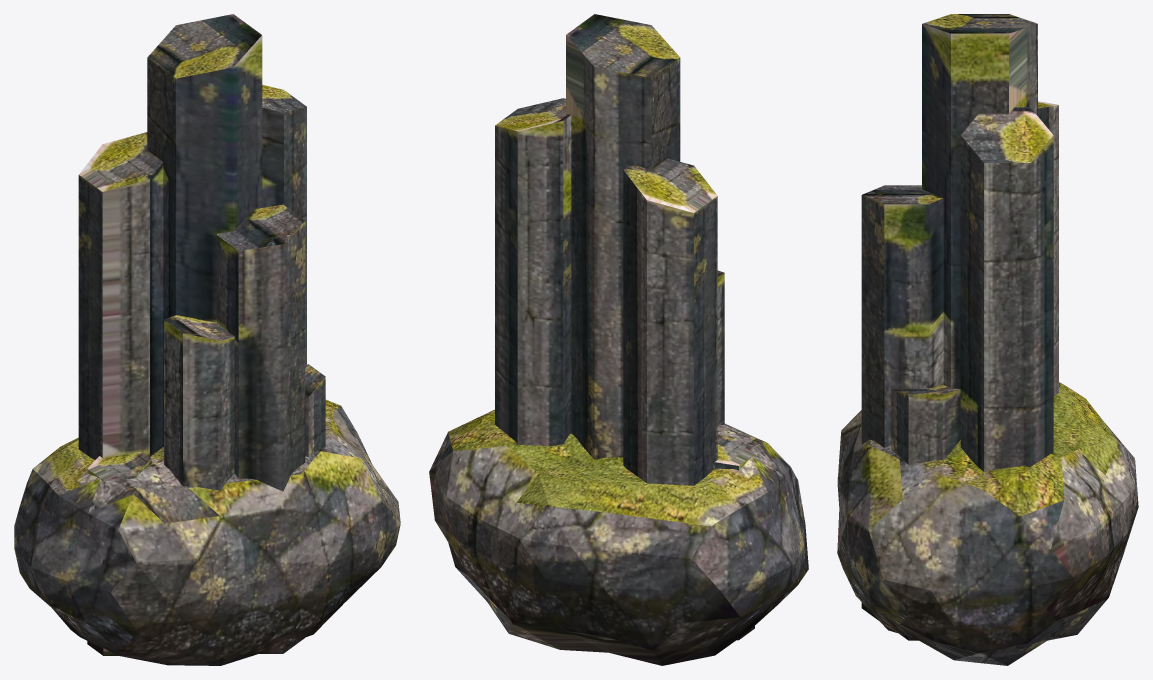
File: rocks.glb
3 renders of one model, left to right at view 1: azimuth 30°, elevation 25°; view 2: azimuth 150°, elevation 25°; view 3: azimuth 270°, elevation 25°, orthographic.
Parts seen in each view (by area): view 1: Rock_B, Rock_A; view 2: Rock_B, Rock_A; view 3: Rock_B, Rock_A.
Boxes of the visible parts, x1,y1,x2,y2 form: Rock_B: (78,14,325,655); Rock_A: (14,399,400,665); Rock_B: (495,14,754,640); Rock_A: (429,409,808,665); Rock_B: (861,14,1058,640); Rock_A: (837,382,1138,665).
Bounding box in the file's own units: 5.17 × 8.43 × 3.9.
5 materials, 5 textured.
